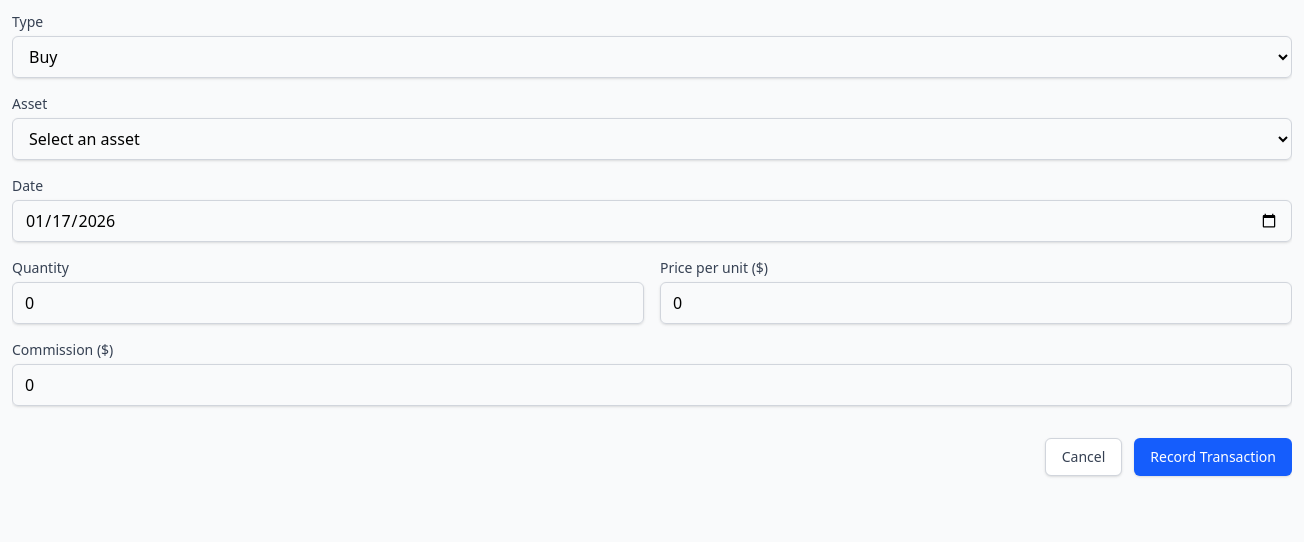
Scenario: TransactionForm › should show validation errors for required fields
This screenshot has width=1304, height=542.
Default values are 0, which should trigger positive validation errors
Click the button "Record Transaction": (1213, 457) x1=1134 y1=438 x2=1292 y2=476
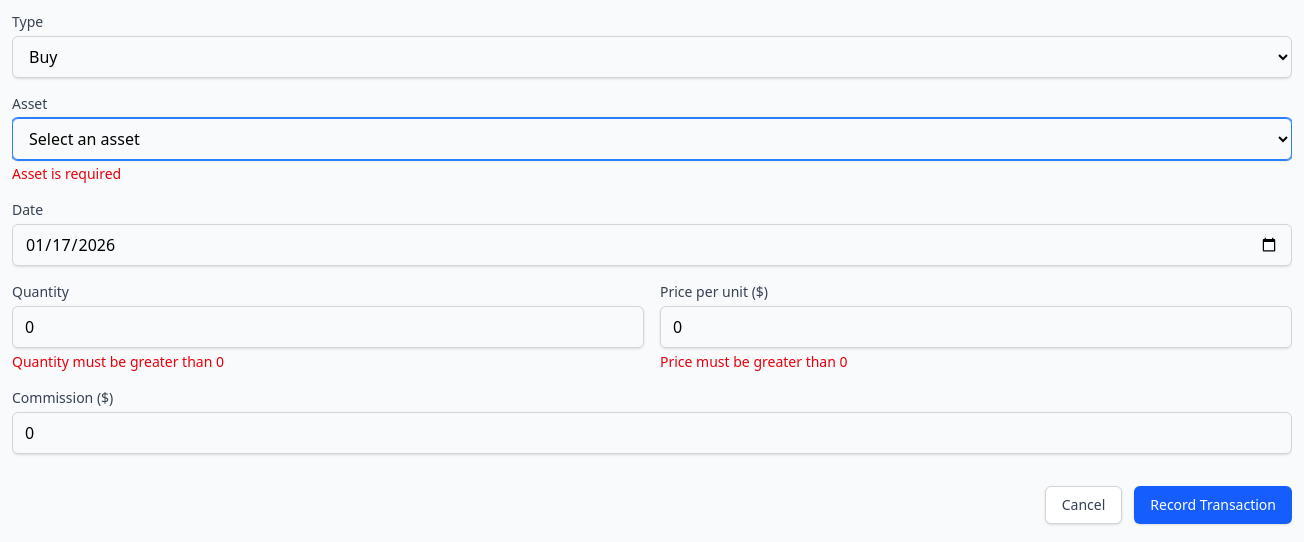
Expected: the text "Asset is required" is shown, x1=12 y1=164 x2=121 y2=183
Expected: the text "Quantity must be greater than 0" is shown, x1=12 y1=352 x2=224 y2=371
Expected: the text "Price must be greater than 0" is shown, x1=660 y1=352 x2=848 y2=371
